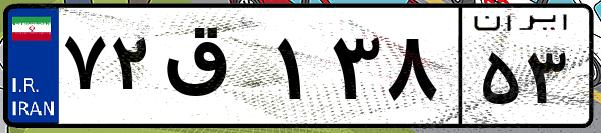1: (270, 28, 330, 110)
2: (110, 28, 158, 98)
3: (330, 28, 385, 110), (525, 38, 570, 115)
5: (475, 38, 525, 113)
7: (57, 26, 110, 100)
8: (385, 28, 445, 110)
ق: (158, 20, 270, 120)
